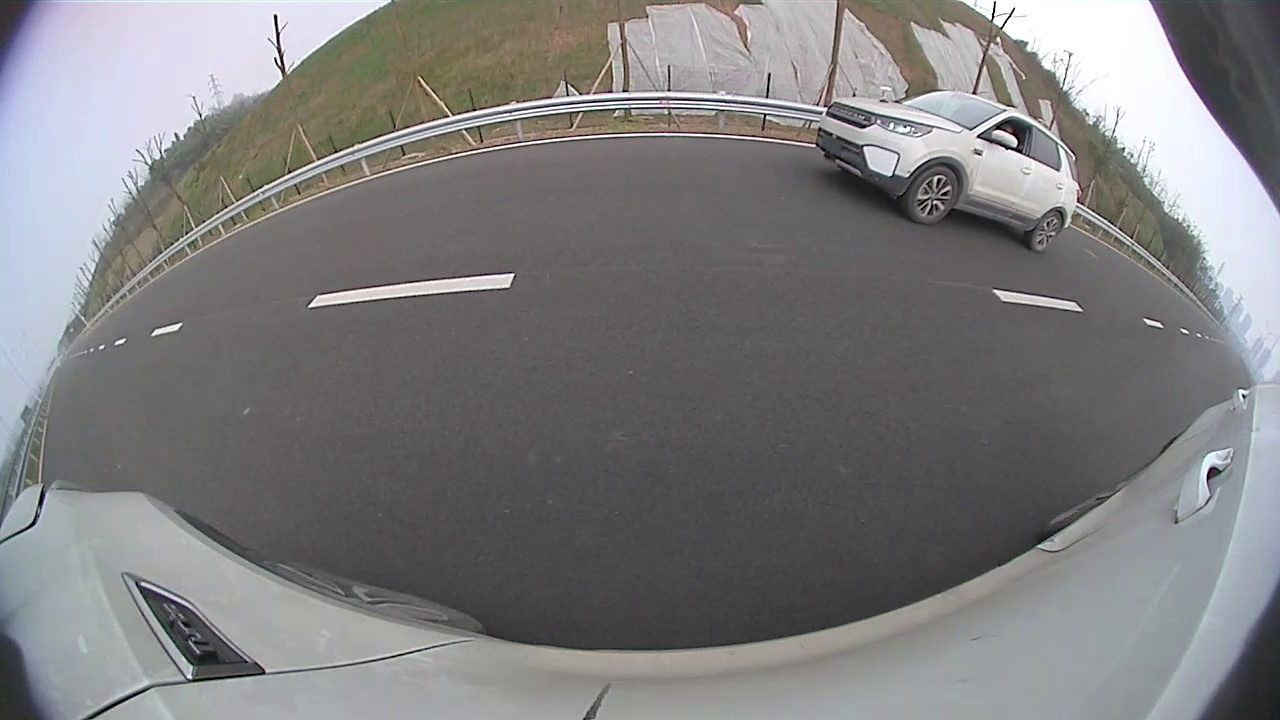car: (817, 90, 1080, 252)
front: (906, 166, 959, 224)
rear: (1031, 209, 1064, 251)
